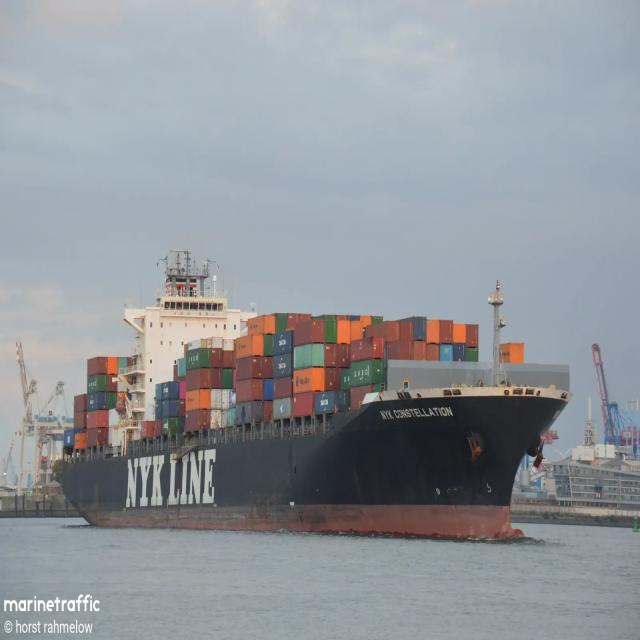Cargo: (62, 251, 571, 538)
